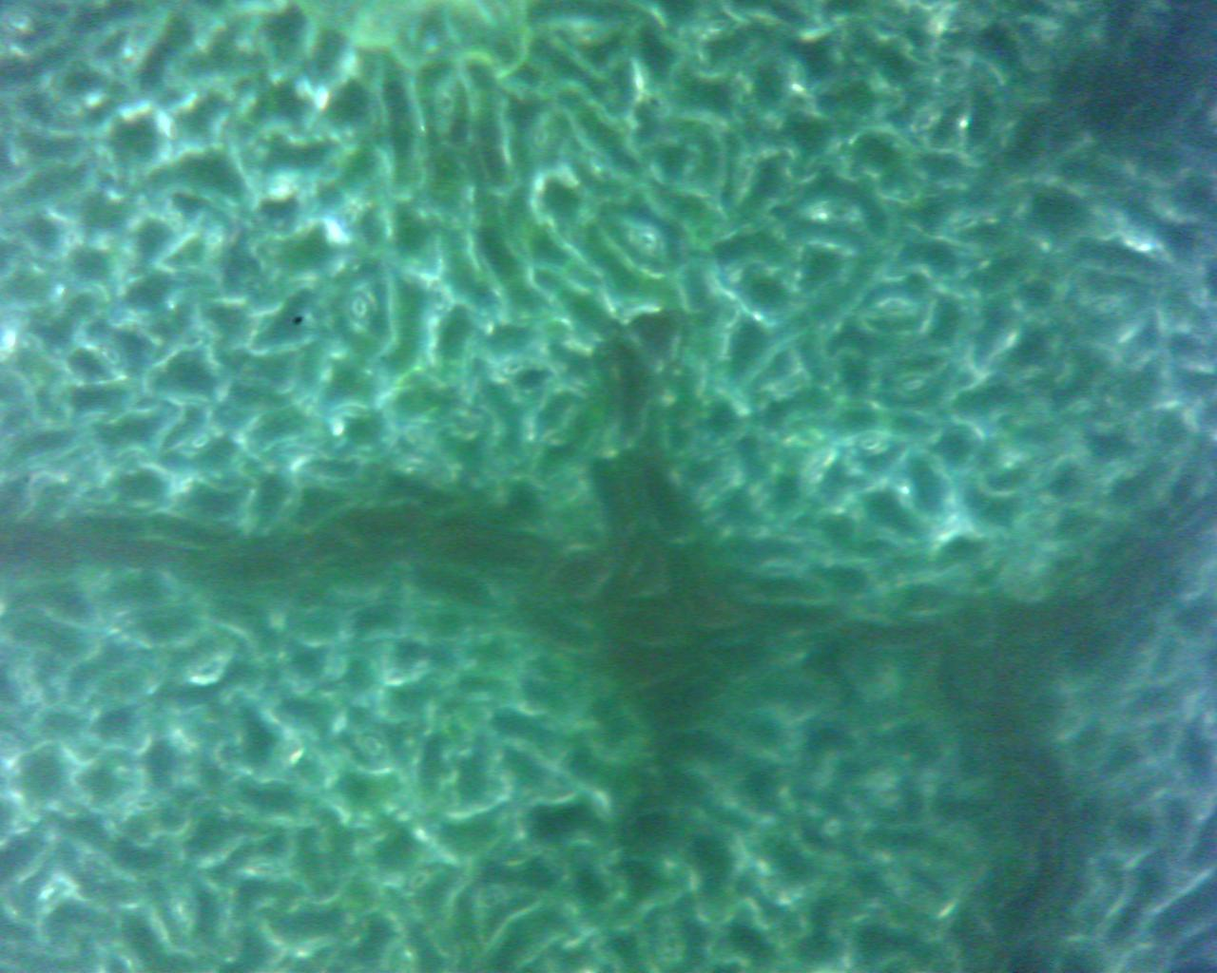stomata: (851, 430, 892, 456), (52, 96, 86, 126), (345, 293, 377, 324), (700, 13, 736, 39), (330, 404, 368, 428), (496, 357, 528, 384), (641, 88, 670, 117), (434, 91, 462, 120), (917, 101, 941, 134), (129, 791, 159, 816), (897, 375, 934, 395), (1091, 296, 1120, 320), (250, 856, 280, 879), (407, 868, 432, 895), (635, 230, 660, 257), (340, 206, 362, 234), (361, 734, 385, 758), (101, 344, 126, 367), (531, 126, 550, 152), (186, 432, 213, 450), (166, 211, 184, 236)
